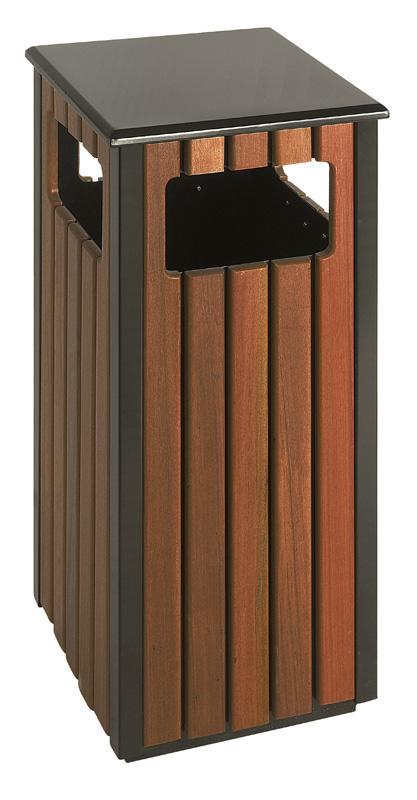trash bin: (14, 24, 396, 770)
